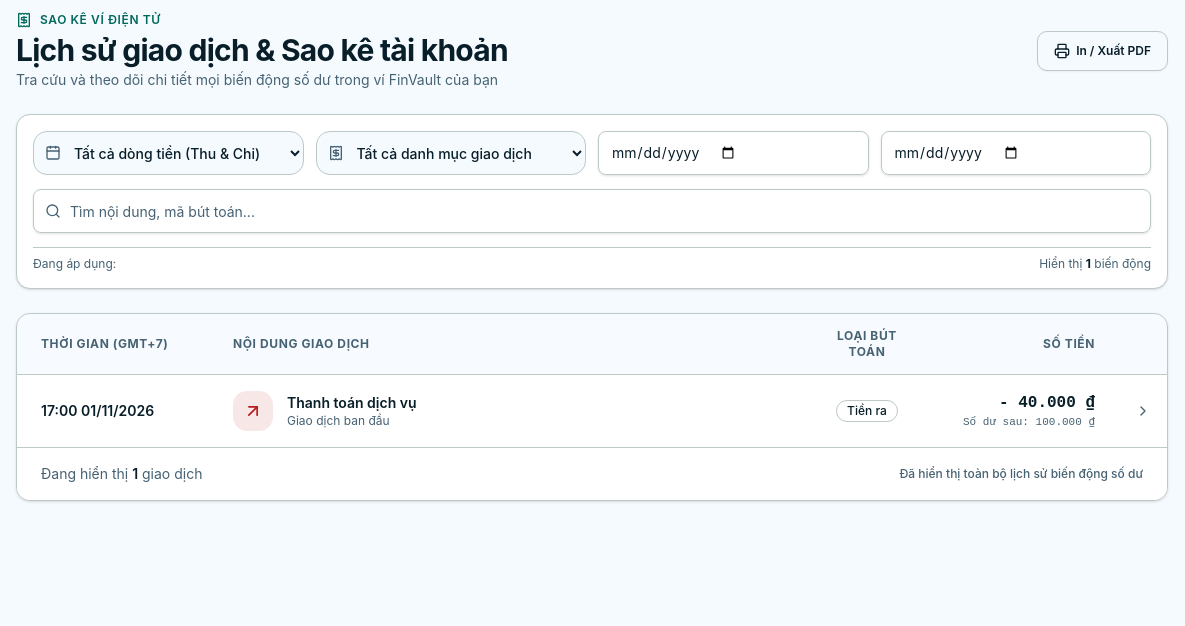
Test case: TransactionsPage - Lịch sử giao dịch và bộ lọc ngày/loại [K20] › khi bộ lọc không có kết quả: hiển thị trạng thái rỗng và bấm Đặt lại bộ lọc khôi phục toàn bộ danh sách
Check: the text "Giao dịch ban đầu" is shown, box 287,413 -> 390,428
Select "Nạp tiền vào ví" in the dropdown named "Lọc loại giao dịch": (451, 153) 316,131 -> 586,175
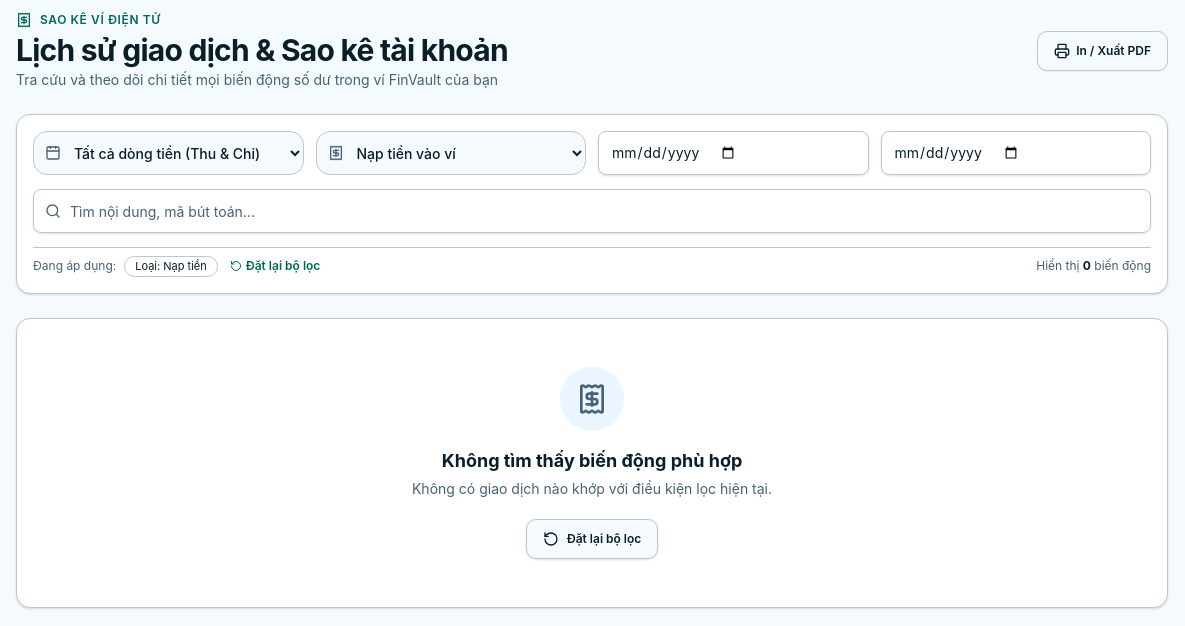
Check: the heading "Không tìm thấy biến động phù hợp" is shown, box 442,450 -> 742,471
Check: the text "Không có giao dịch nào khớp với điều kiện lọc hiện tại." is shown, box 400,479 -> 784,499
Note: Bấm "Đặt lại bộ lọc"
Click the button "Đặt lại bộ lọc" next to "Nạp tiền": (275, 266) 230,258 -> 320,274
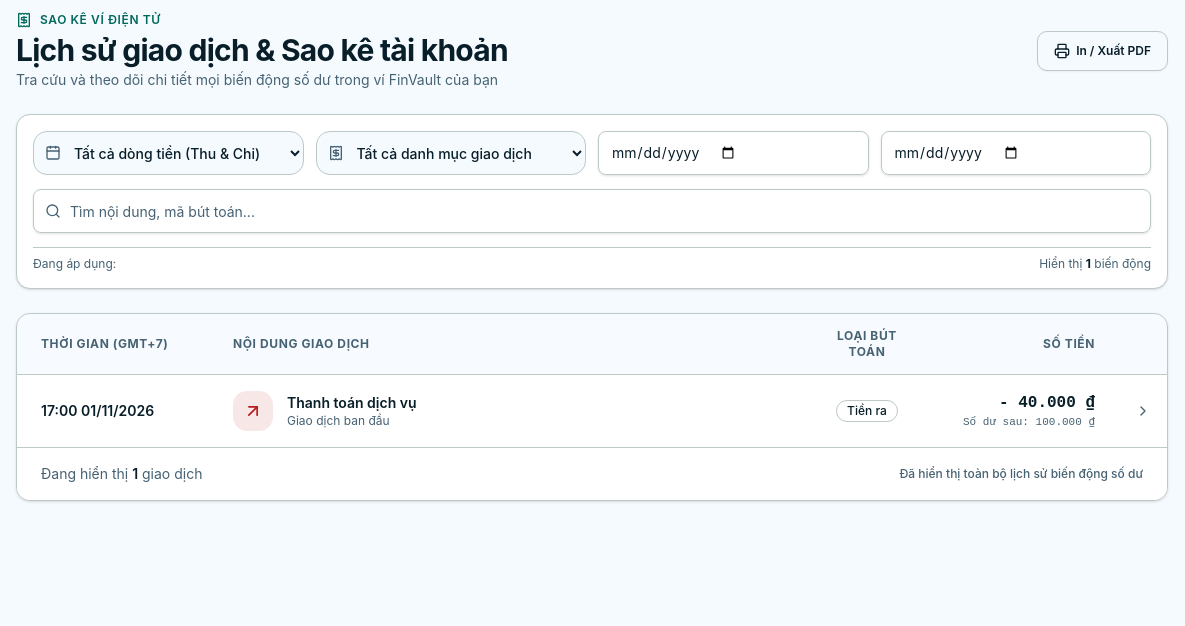
Check: the text "Giao dịch ban đầu" is shown, box 287,413 -> 390,428
Check: the heading "Không tìm thấy biến động phù hợp" is gone
